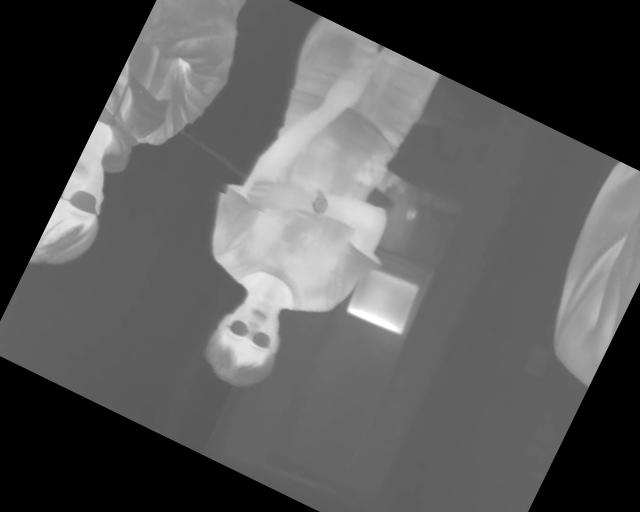face: (193, 284, 298, 399)
